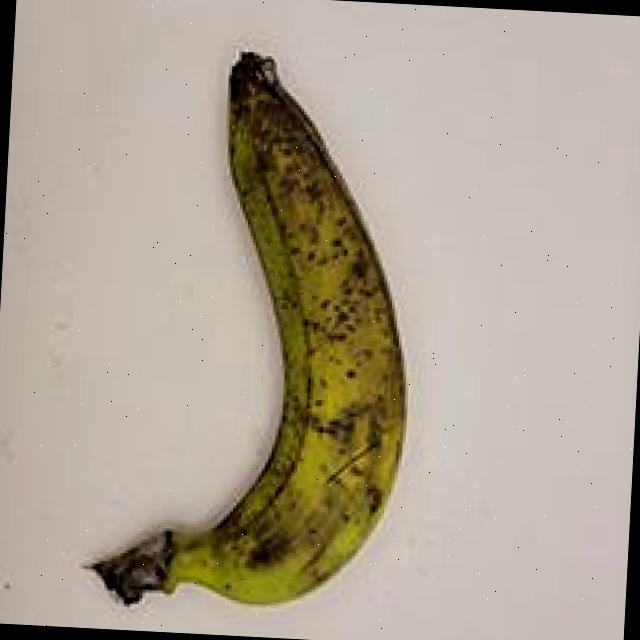Overripe: (38, 19, 450, 634)
